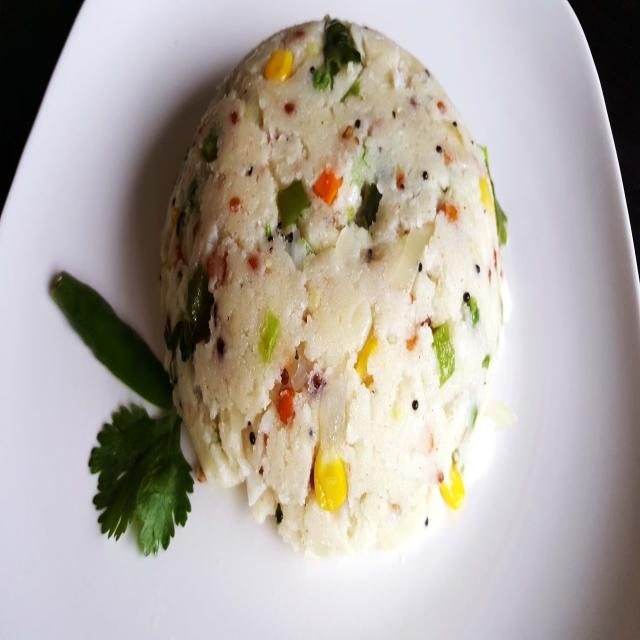upma: (152, 2, 516, 595)
